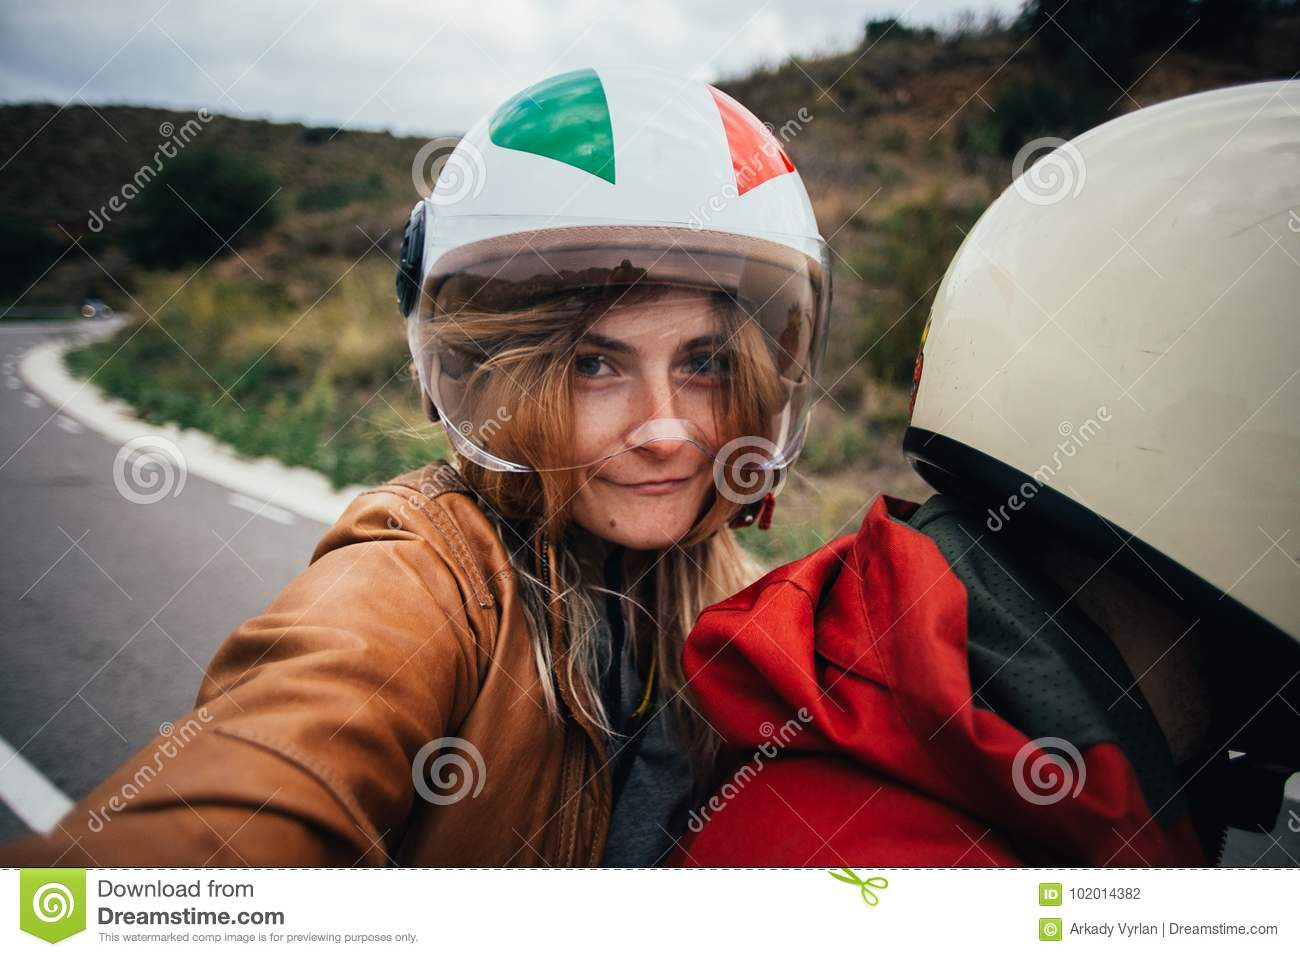helmet: (407, 92, 820, 480)
